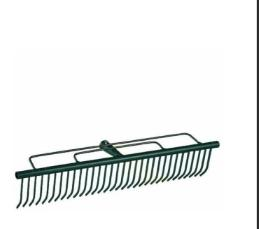RATEAU: (0, 0, 257, 229)
